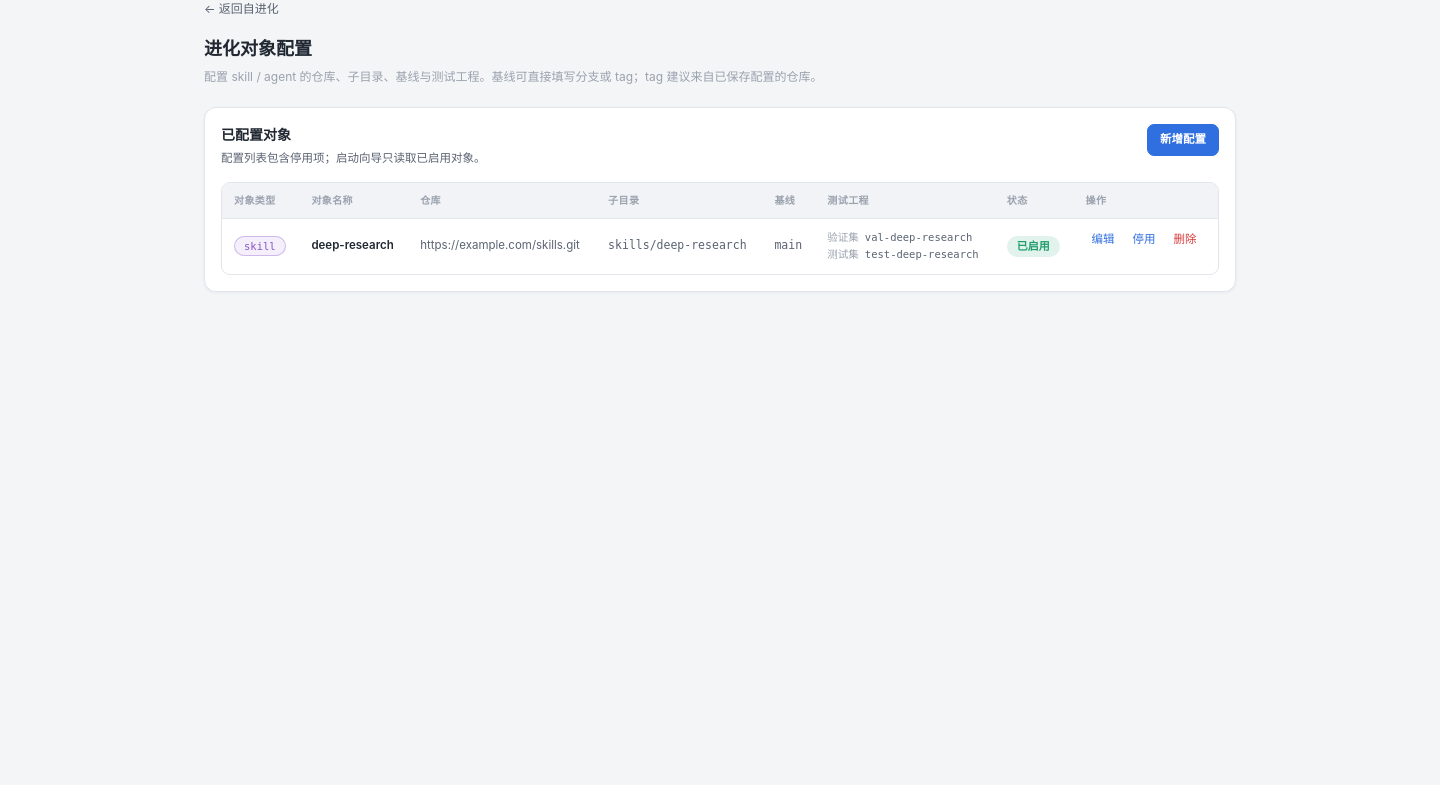
Test: target configuration page › maps TARGET_EXISTS into the open edit form
The width and height of the screenshot is (1440, 785).
Step 1. Click the button with class "edit-target" → (1103, 240), box [1086, 229, 1121, 251]
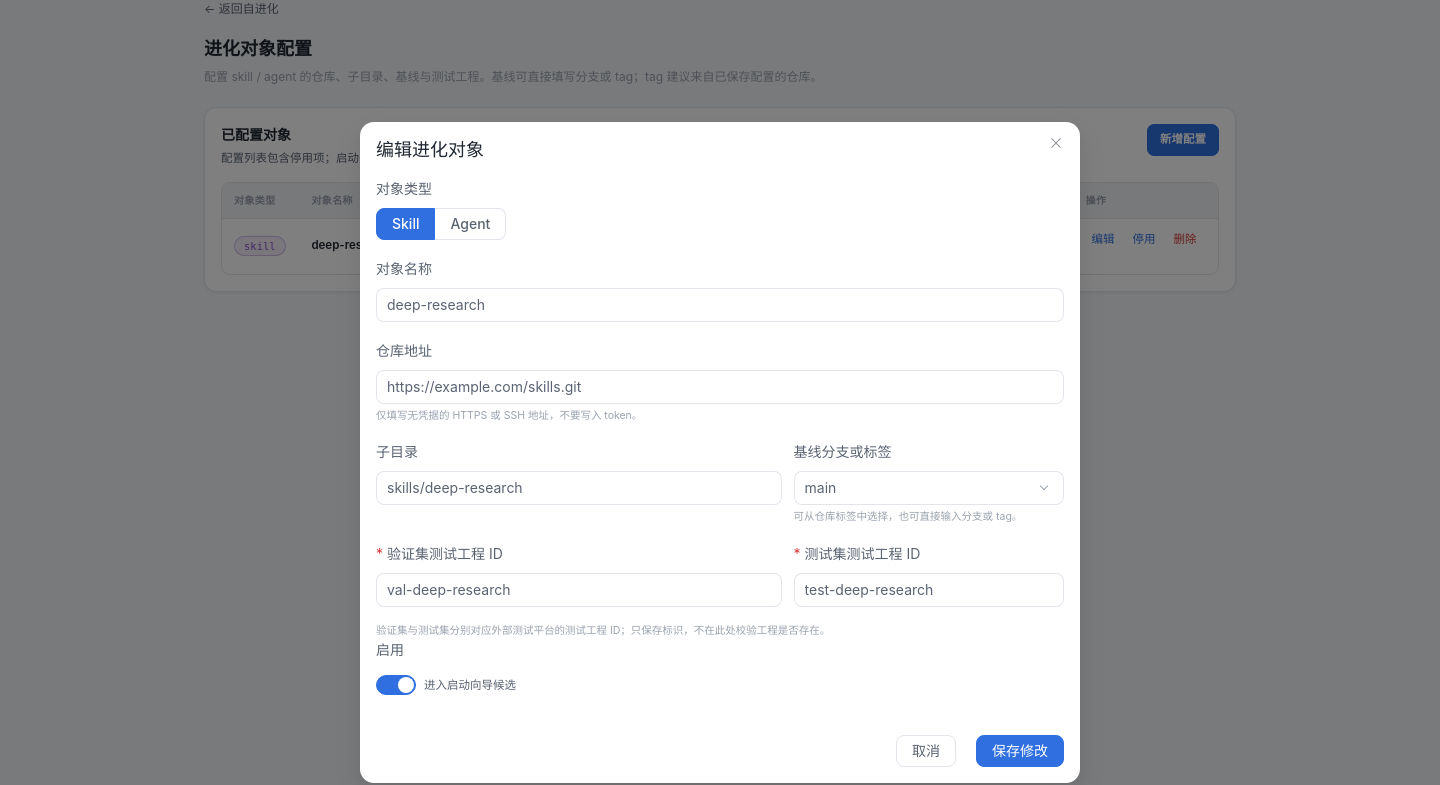
Step 2. Submit the form, box [376, 178, 1064, 719]
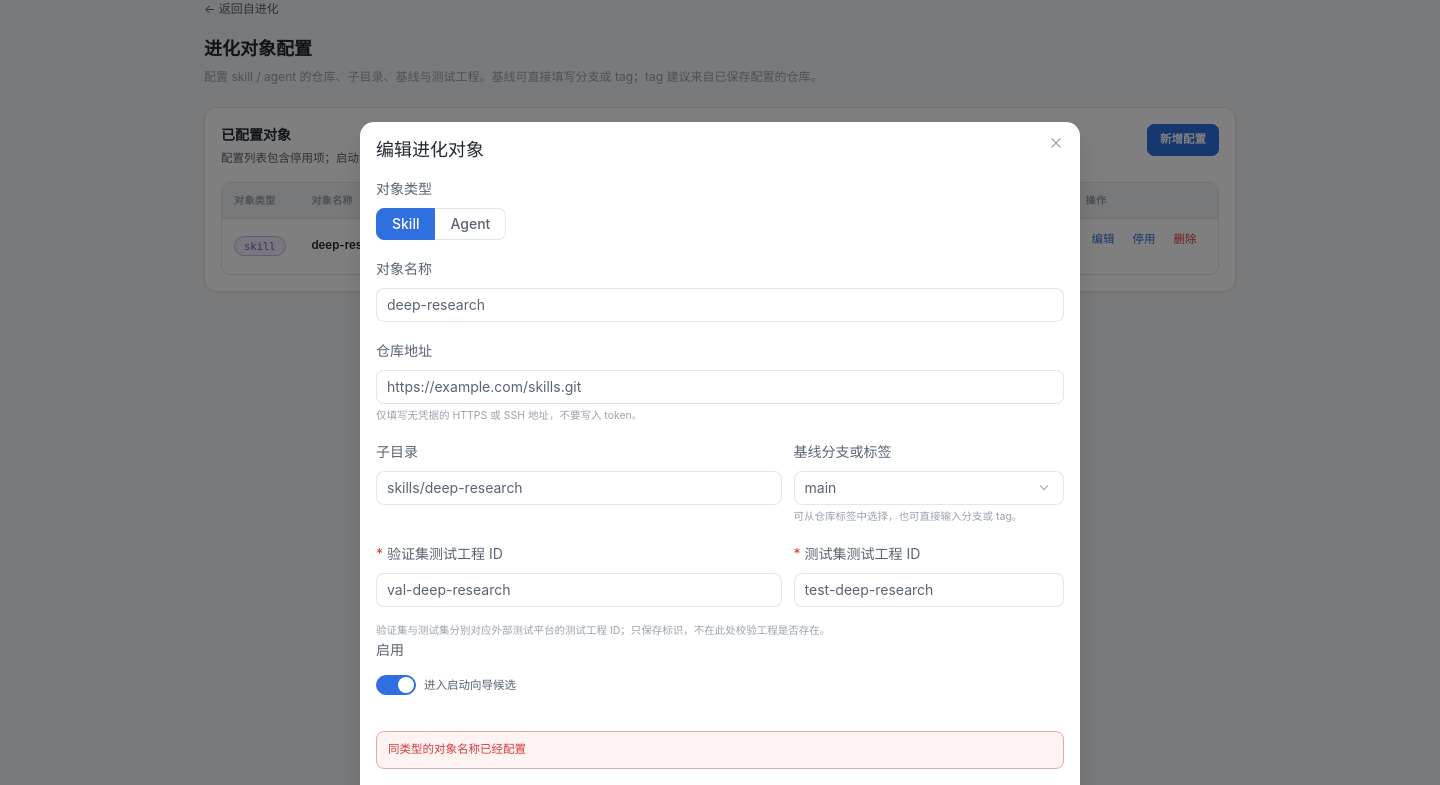
Result: the message "同类型的对象名称已经配置" is shown at [376, 731, 1064, 769]
